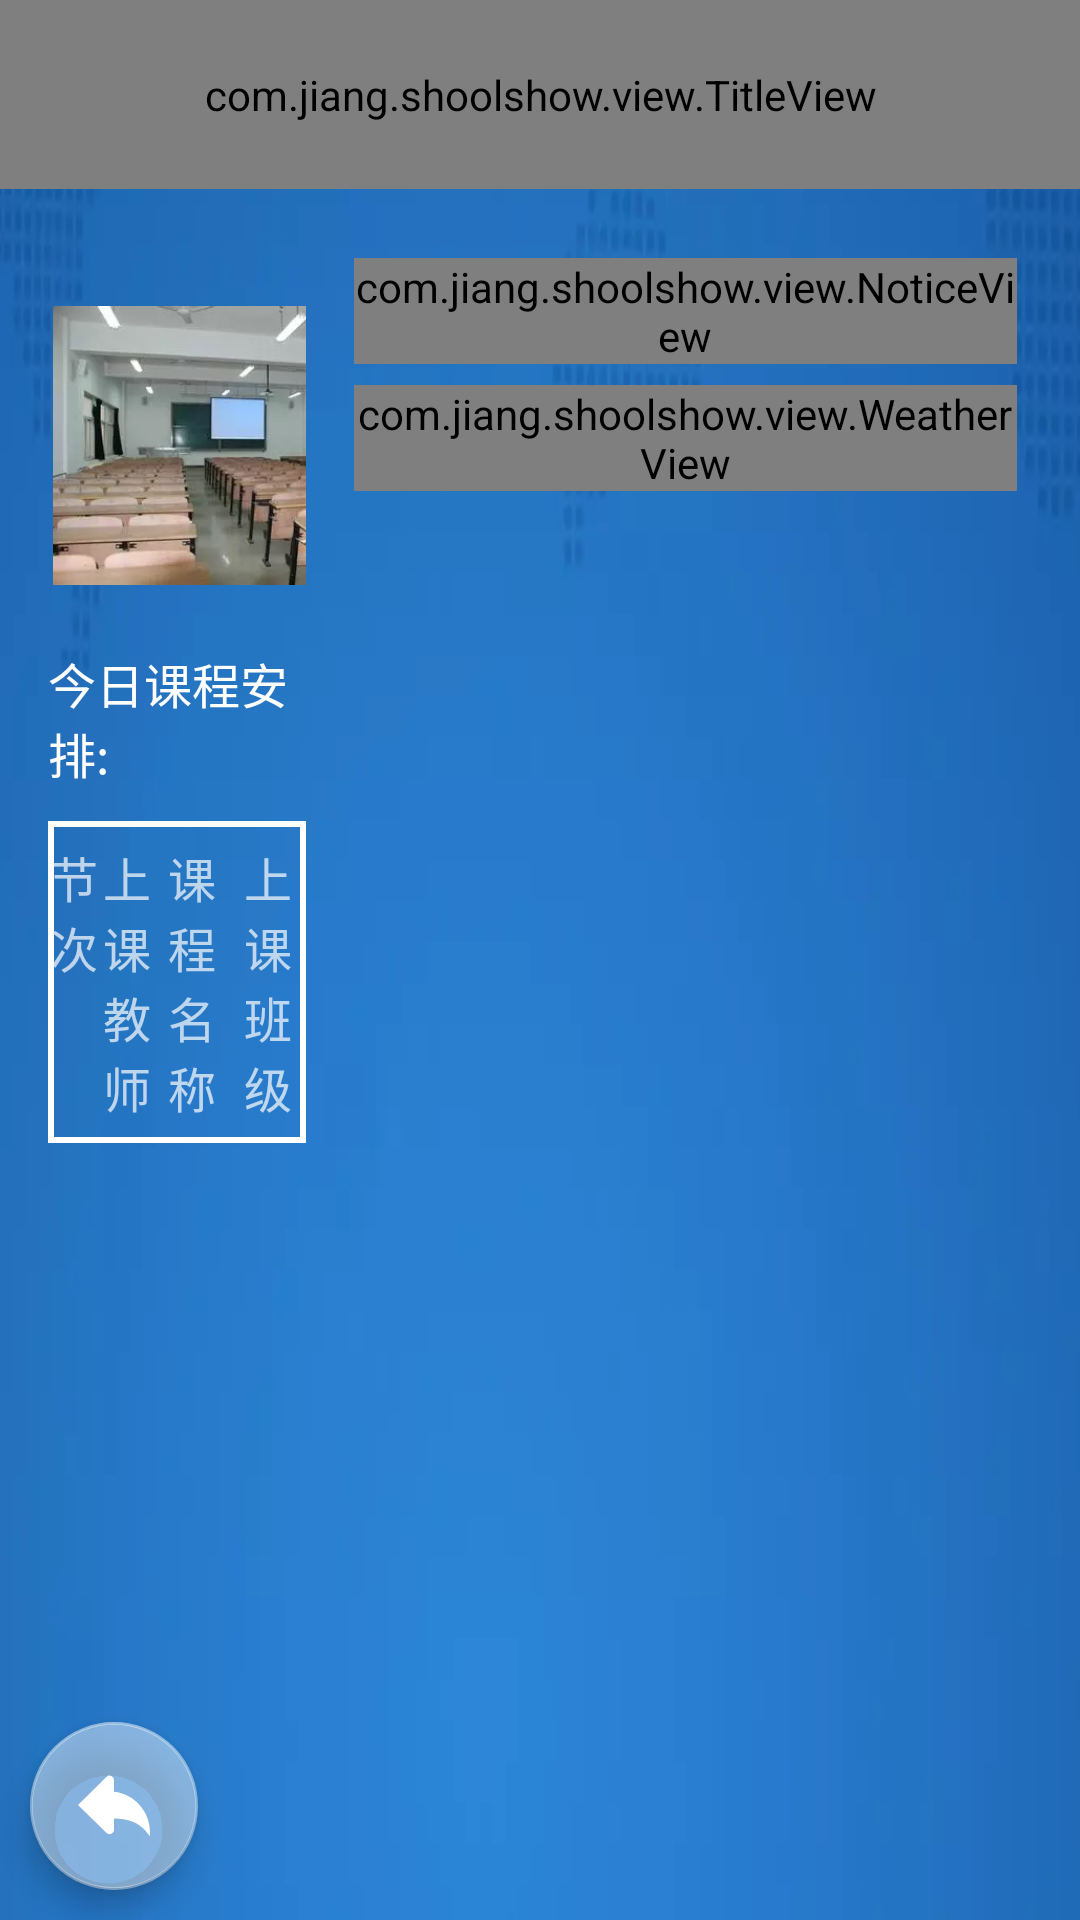

Screen size 1080 x 1920. Icon name, then its box in pixels as (x1, y1, x2, y2):
back: (30, 1722, 198, 1890)
